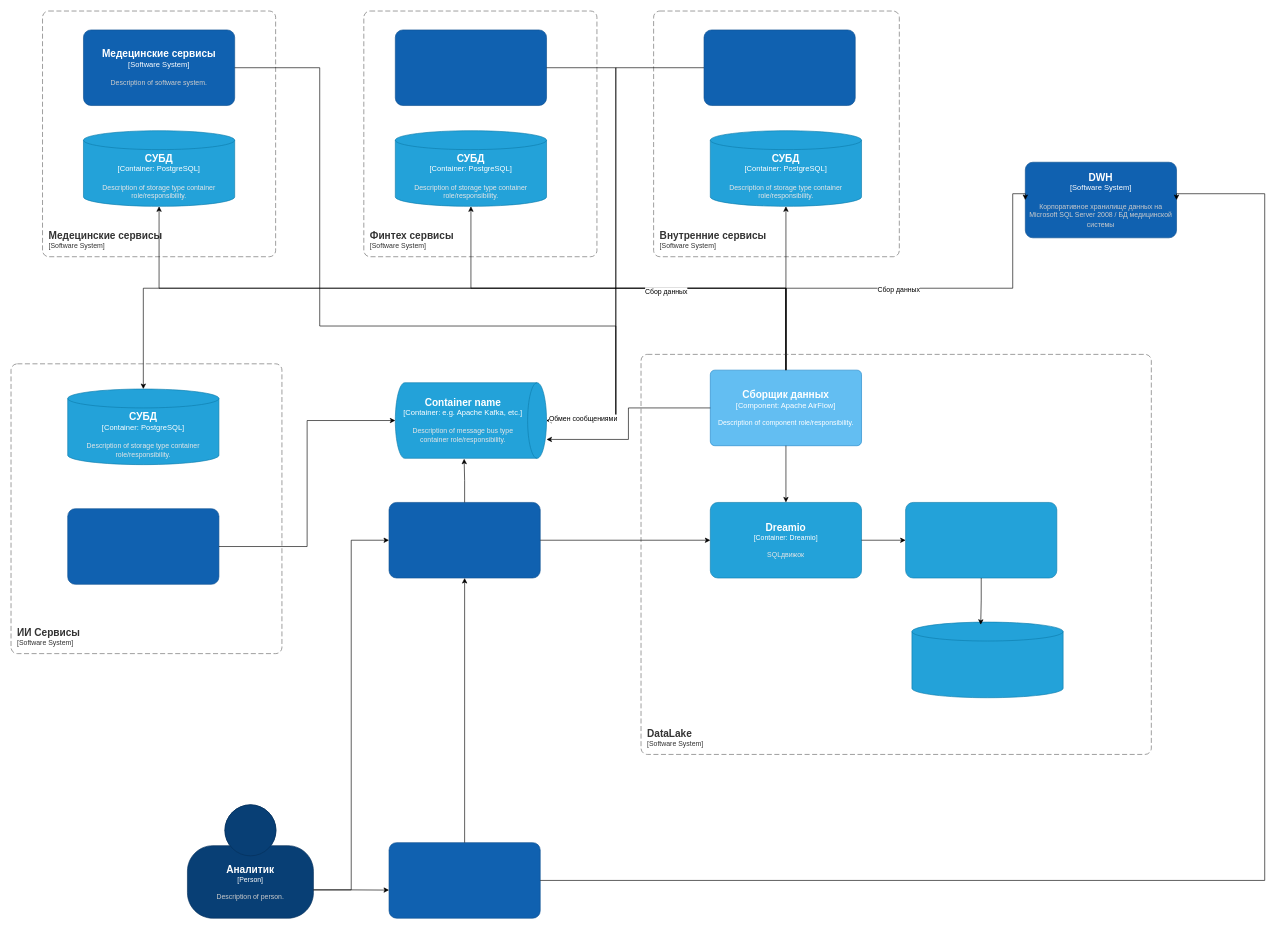
This 1281x929 diagram has some shape labels left out. The centre of each missing label's shape, as x and y in pixels:
"Nessie [Container: Nessie] каталог данных" belongs at point 981,540.
"Power BI [Software System] BI-система" belongs at point 464,880.
"Внутренние сервисы [Software System] Финансы, бухгалтерия, МТО, HR" belongs at point 779,67.
"ИИ сервисы [Software System] Description of software system." belongs at point 143,546.
"Каталог данных [Software System] DataHub" belongs at point 464,540.
"Финтех сервисы [Software System] Description of software system." belongs at point 471,67.
"Хранилище S3 [Container: minIO]" belongs at point 987,659.
